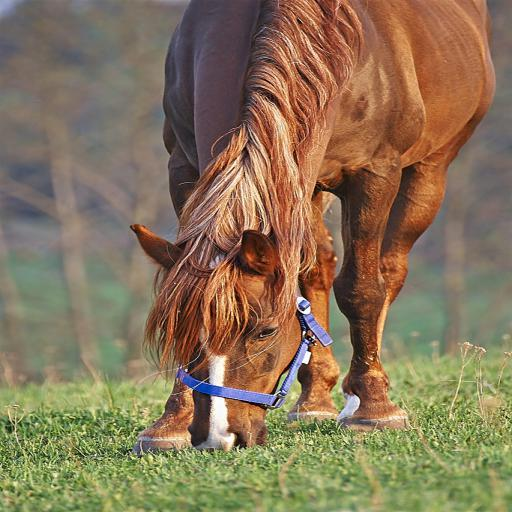Horse: (126, 0, 498, 450)
